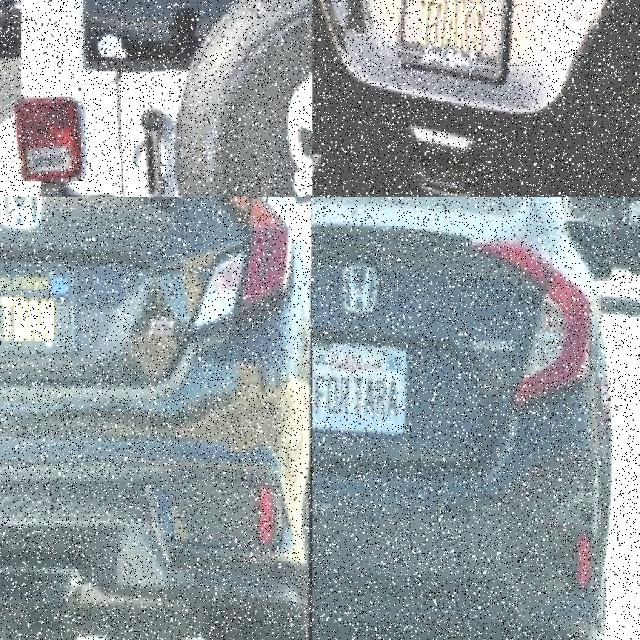licenseplate: (396, 0, 512, 86), (312, 338, 406, 432), (0, 264, 78, 360)
